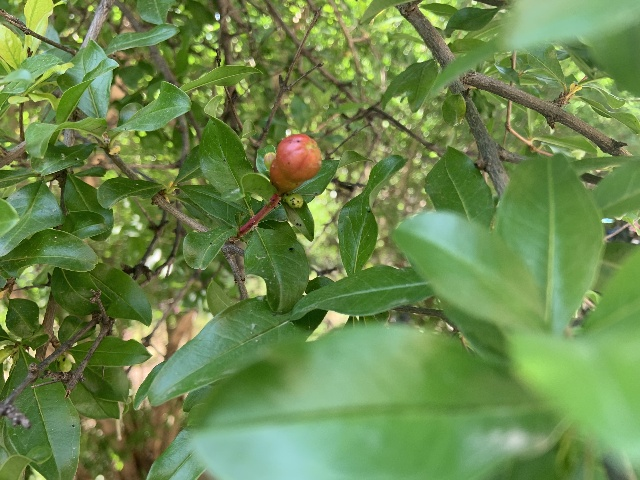bud: (270, 133, 321, 193), (283, 193, 303, 209), (263, 152, 275, 171)
